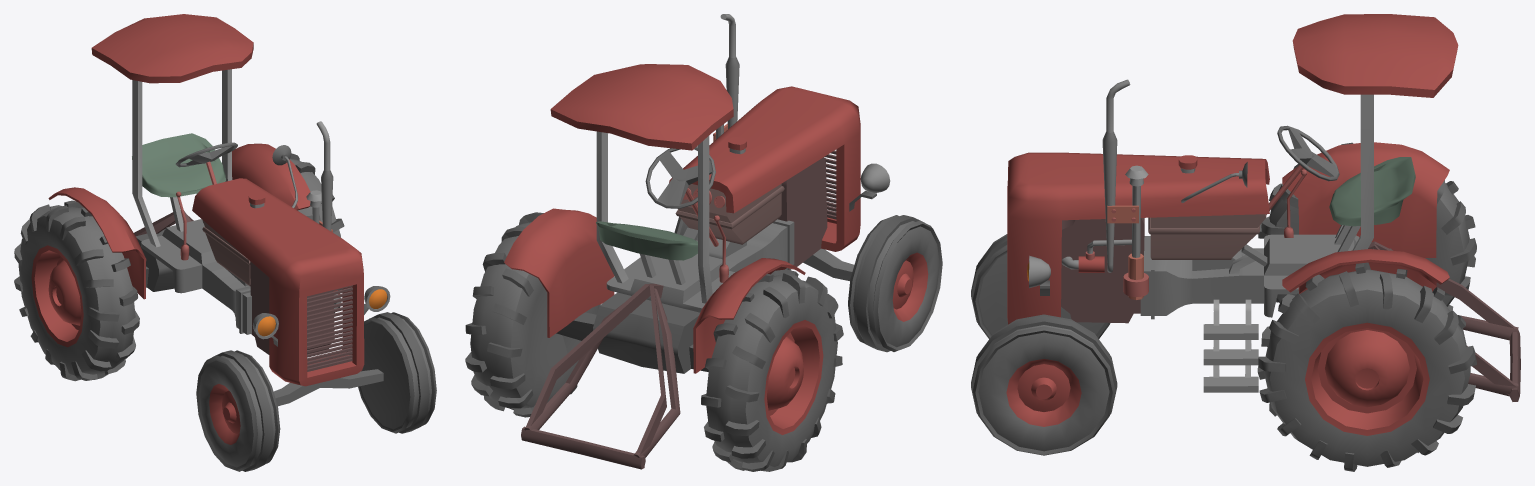
The model's file is TractorR.gltf.
The picture shows the model from 3 angles, left to right: view 1: azimuth 30°, elevation 25°; view 2: azimuth 150°, elevation 25°; view 3: azimuth 270°, elevation 25°; orthographic projection. The views are drawn at different scales.
Visible parts, largest first — view 1: body, wheel_21, wheel_20, wheel_0, wheel_36, wheel_17, wheel_40, wheel_28, wheel_22, wheel_39, wheel_13, wheel_14 (+5 smaller); view 2: body, wheel_21, wheel_20, wheel_2, wheel_25, wheel_36, wheel_40, wheel_28, wheel_22, wheel_23, wheel_39, wheel_19 (+3 smaller); view 3: body, wheel_26, wheel_12, wheel_25, wheel_27, wheel_4, wheel_3, wheel_1, wheel_5, wheel_6, wheel_16, wheel_20 (+3 smaller).
Part boxes in pixels (<box>): body: <box>14,14,390,423</box>; wheel_21: <box>18,216,100,375</box>; wheel_20: <box>38,207,135,374</box>; wheel_0: <box>360,322,410,429</box>; wheel_36: <box>199,360,253,467</box>; wheel_17: <box>379,312,429,433</box>; wheel_40: <box>222,350,273,471</box>; wheel_28: <box>209,384,239,444</box>; wheel_22: <box>31,245,83,347</box>; wheel_39: <box>205,355,257,471</box>; wheel_13: <box>364,317,414,433</box>; wheel_14: <box>377,317,419,427</box>; body: <box>465,14,912,471</box>; wheel_21: <box>745,286,837,466</box>; wheel_20: <box>706,274,817,468</box>; wheel_2: <box>510,274,600,407</box>; wheel_25: <box>470,222,532,408</box>; wheel_36: <box>878,226,939,347</box>; wheel_40: <box>855,215,912,351</box>; wheel_28: <box>893,252,928,321</box>; wheel_22: <box>764,320,823,434</box>; wheel_23: <box>638,288,680,457</box>; wheel_39: <box>873,220,932,351</box>; wheel_19: <box>529,338,603,430</box>; body: <box>1007,14,1520,471</box>; wheel_26: <box>1269,289,1464,466</box>; wheel_12: <box>978,332,1109,451</box>; wheel_25: <box>1264,269,1470,440</box>; wheel_27: <box>1305,322,1429,435</box>; wheel_4: <box>1006,359,1081,426</box>; wheel_3: <box>978,253,1104,334</box>; wheel_1: <box>1276,197,1463,305</box>; wheel_5: <box>1017,364,1070,411</box>; wheel_6: <box>975,330,1112,454</box>; wheel_16: <box>973,326,1115,455</box>; wheel_20: <box>1266,183,1469,306</box>.
Size of the model in its own units: 2.9 by 3.4 by 4.53.
Materials: 1 (1 with a texture image).
